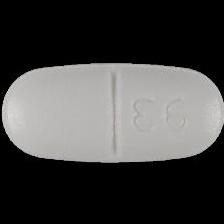21695-174: (0, 0, 224, 224)
